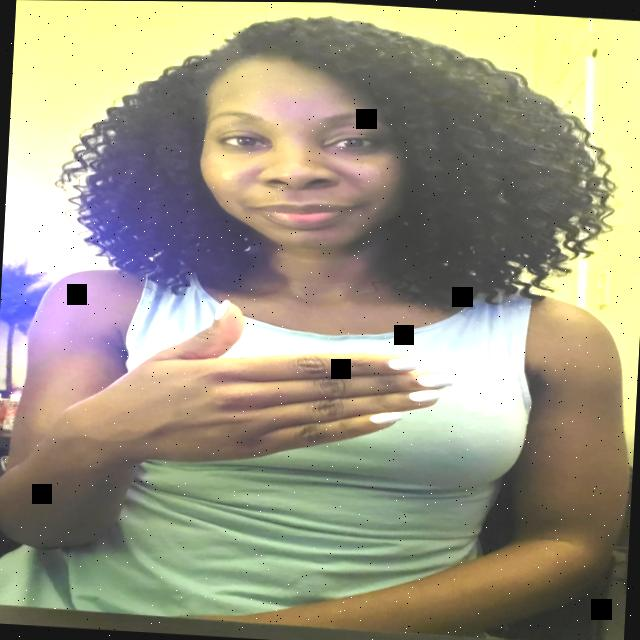Paper: (62, 292, 456, 493)
